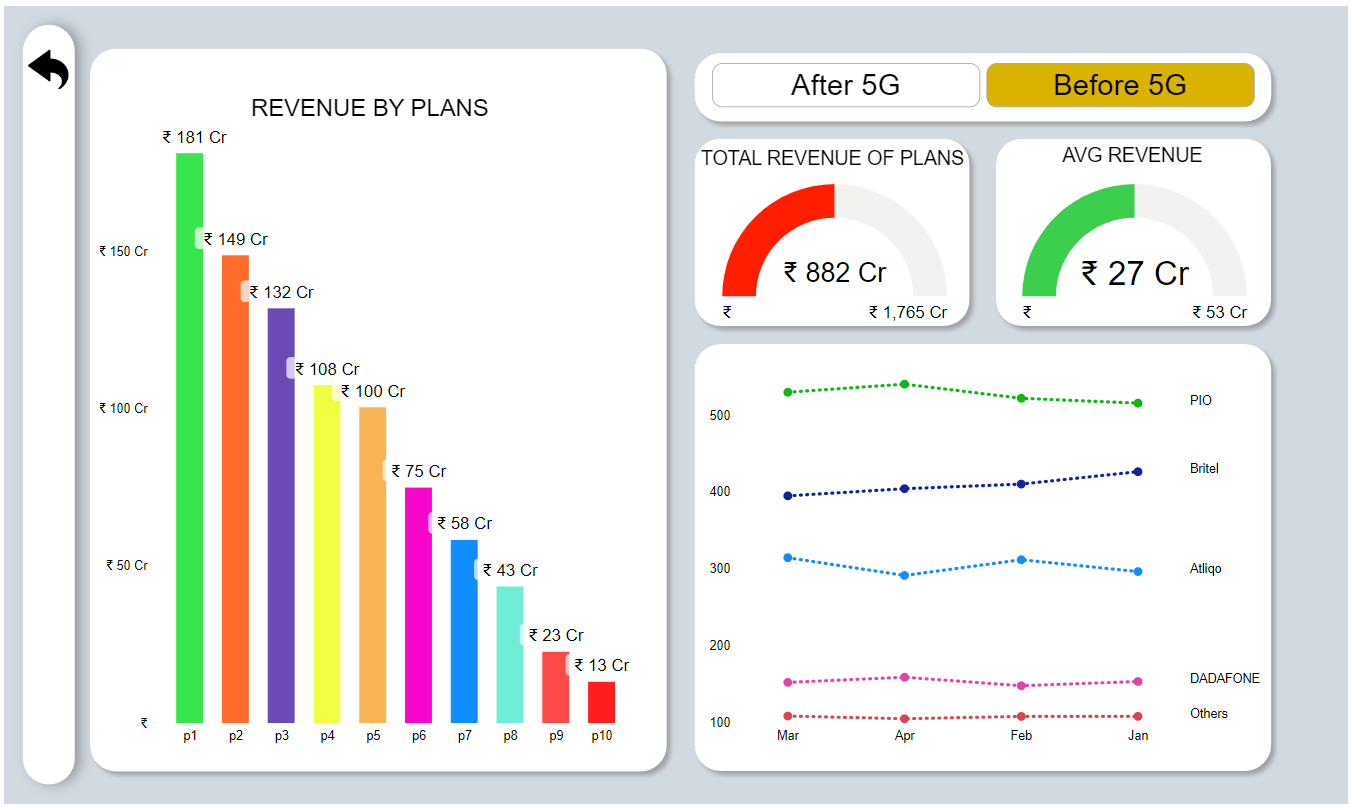

The dashboard page shown, as its layout file describes it:
{"tool":"powerbi","page":{"name":"Plans","canvas":[1280,760],"ordinal":2},"visuals":[{"type":"group","id":"g1","title":"Menu STuff","box":[0,0,85.4,759.5],"z":0},{"type":"shape","title":"Menu Bar","box":[0,0,85.4,759.5],"z":0,"group":"g1"},{"type":"group","id":"g2","title":"Line chart bg","box":[73.4,30.9,567.6,706.6],"z":0,"group":"g7"},{"type":"actionButton","box":[73.4,30.9,567.6,706.6],"z":0,"group":"g2"},{"type":"image","box":[11.3,35.2,61,48.8],"z":0,"group":"g3"},{"type":"lineClusteredColumnComboChart","fields":{"Category":["dim_plan.plan"],"Y":["measures (2).Plan Revenue"]},"box":[85,99.7,521.3,612],"z":0,"group":"g8"},{"type":"actionButton","box":[648.7,115.9,279.9,196.9],"z":0,"group":"g5"},{"type":"actionButton","box":[648.7,312.8,567.6,424.7],"z":0,"group":"g4"},{"type":"actionButton","box":[648.7,34.8,567.6,83],"z":1000,"group":"g5"},{"type":"group","id":"g3","title":"Trends","box":[11.3,35.2,61,48.8],"z":1000},{"type":"ChicletSlicer1448559807354","fields":{"Category":["dim_date.before/after_5g"]},"box":[666.1,46.3,532.9,61.8],"z":1000,"group":"g8"},{"type":"group","id":"g4","title":"Line chart bg","box":[648.7,312.8,567.6,424.7],"z":1000,"group":"g7"},{"type":"group","id":"g5","title":"Line chart bg","box":[648.7,34.8,567.6,278],"z":2000,"group":"g7"},{"type":"actionButton","box":[936.4,115.9,279.9,196.9],"z":2000,"group":"g5"},{"type":"lineChart","fields":{"Category":["dim_date.month_name"],"Y":["measures (2).sum of mspct"],"Series":["fact_market_share.company"]},"box":[666.1,339.8,538.6,372.6],"z":2000,"group":"g8"},{"type":"gauge","fields":{"Y":["measures (2).Plan Revenue"]},"box":[666.2,165,250,145],"z":3000,"group":"g8"},{"type":"gauge","fields":{"Y":["measures (2).Avg Revenue"]},"box":[952,165,250,145],"z":4000,"group":"g8"},{"type":"group","id":"g6","title":"Names","box":[146.8,77.2,1027.1,88.8],"z":4500,"group":"g8"},{"type":"group","id":"g7","title":"Last Page BG","box":[73.4,30.9,1142.9,706.6],"z":7000},{"type":"group","id":"g8","title":"Last Page Figs","box":[85,46.3,1119.8,666.1],"z":8000},{"type":"actionButton","box":[146.8,77.2,405.4,40.5],"z":9000,"group":"g6"},{"type":"actionButton","box":[978.9,123.5,195,40.5],"z":10000,"group":"g6"},{"type":"actionButton","box":[656.5,125.5,266.4,40.5],"z":11000,"group":"g6"}]}

Visuals, with their boxes in screenshot pixels (x1, y1, x2, y2), scaled from the page's 1280x760 canvas onto the 1351x807 screenshot:
"Menu STuff" group: region(0, 0, 90, 806)
"Menu Bar" shape: region(0, 0, 90, 806)
"Line chart bg" group: region(77, 33, 677, 783)
actionButton: region(77, 33, 677, 783)
image: region(12, 37, 76, 89)
lineClusteredColumnComboChart - dim_plan.plan x measures (2).Plan Revenue: region(90, 106, 640, 756)
actionButton: region(685, 123, 980, 332)
actionButton: region(685, 332, 1284, 783)
actionButton: region(685, 37, 1284, 125)
"Trends" group: region(12, 37, 76, 89)
ChicletSlicer1448559807354 - dim_date.before/after_5g: region(703, 49, 1266, 115)
"Line chart bg" group: region(685, 332, 1284, 783)
"Line chart bg" group: region(685, 37, 1284, 332)
actionButton: region(988, 123, 1284, 332)
lineChart - dim_date.month_name x measures (2).sum of mspct: region(703, 361, 1272, 756)
gauge - measures (2).Plan Revenue: region(703, 175, 967, 329)
gauge - measures (2).Avg Revenue: region(1005, 175, 1269, 329)
"Names" group: region(155, 82, 1239, 176)
"Last Page BG" group: region(77, 33, 1284, 783)
"Last Page Figs" group: region(90, 49, 1272, 756)
actionButton: region(155, 82, 583, 125)
actionButton: region(1033, 131, 1239, 174)
actionButton: region(693, 133, 974, 176)
